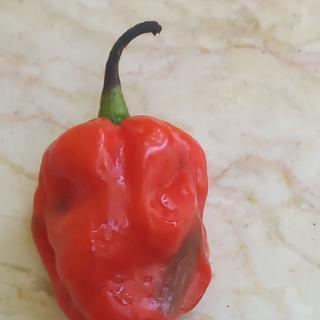Defect: (149, 217, 214, 318)
